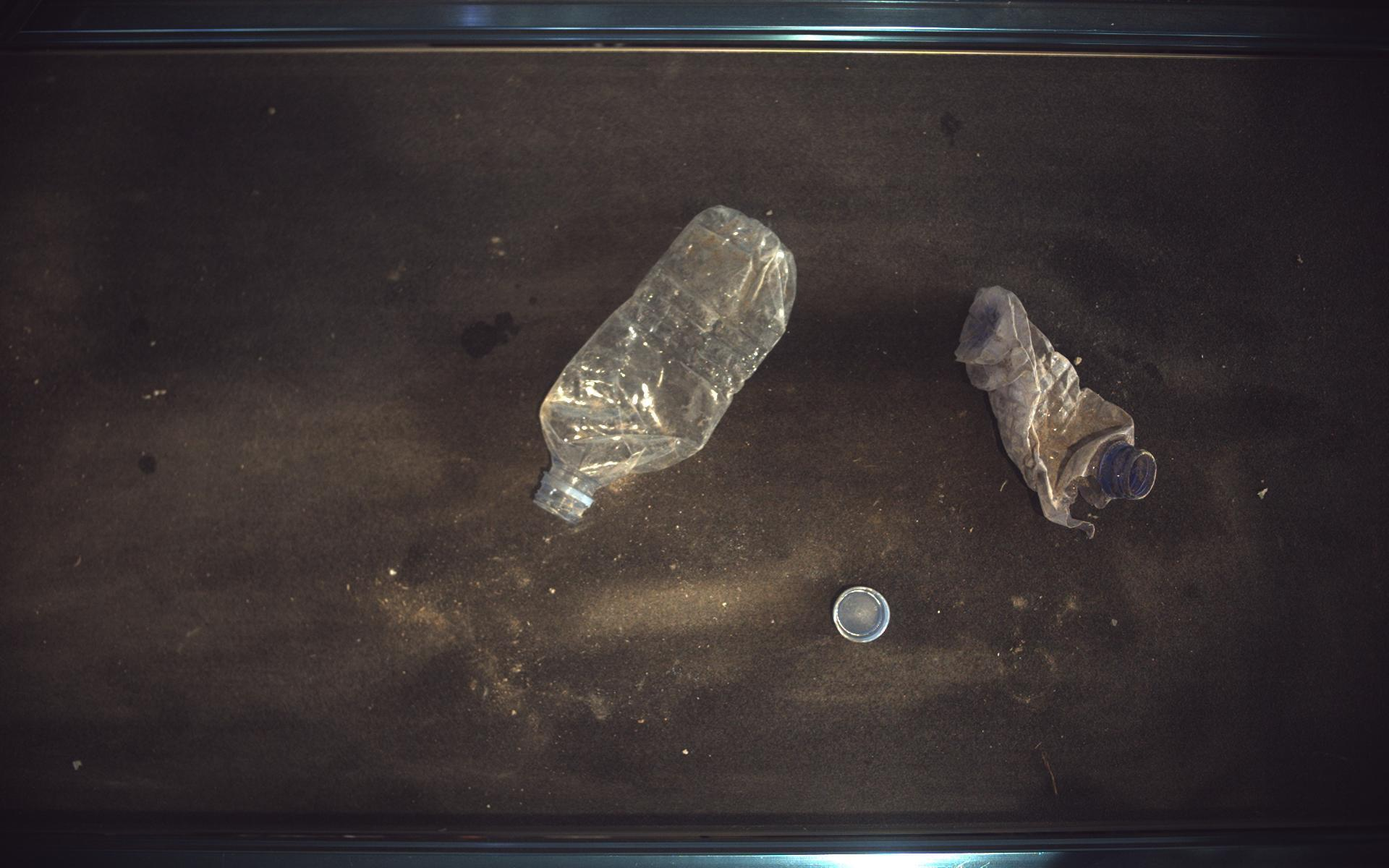general_w: (534, 205, 797, 525), (958, 286, 1160, 538), (834, 588, 892, 644)
